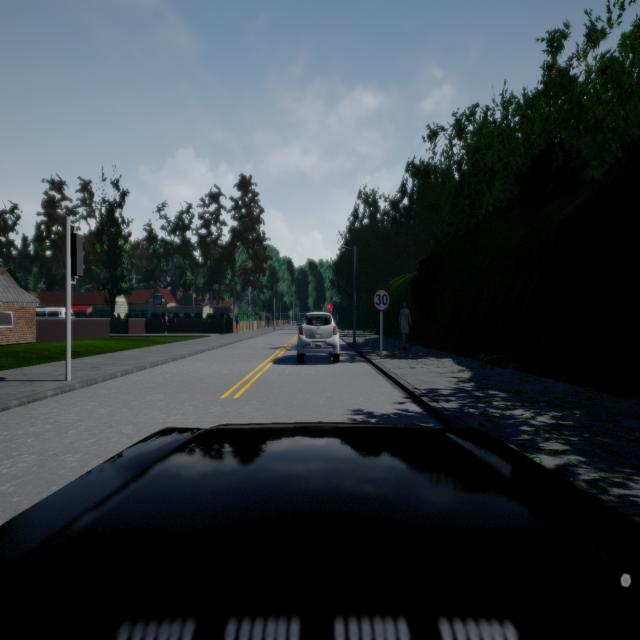Speed Limit -30-: (372, 288, 390, 312)
